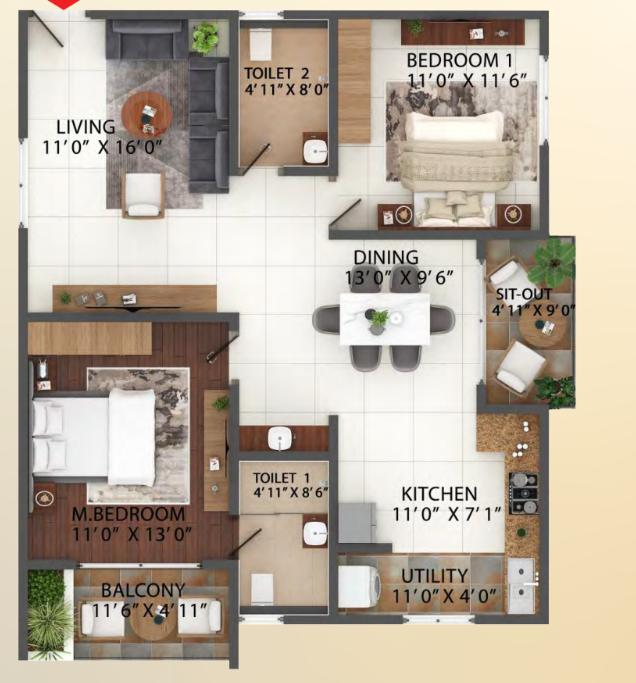Balcony: (26, 569, 235, 664), (476, 233, 576, 409)
Bed: (22, 395, 164, 486), (409, 116, 504, 229)
Bedroom: (25, 313, 232, 558), (333, 15, 543, 232)
Dining Room: (220, 176, 485, 411)
Dining table: (305, 267, 455, 374)
Kitchen: (333, 413, 547, 555)
Living Room: (22, 25, 238, 310)
Sofa: (186, 122, 234, 196), (105, 26, 186, 63), (190, 65, 230, 122), (123, 171, 162, 220)
Wardrobe: (26, 321, 155, 357), (335, 22, 372, 141)
commode: (248, 29, 273, 62), (252, 574, 276, 604)
door: (26, 13, 88, 55), (317, 180, 365, 227), (229, 506, 263, 565), (207, 339, 247, 380), (245, 142, 286, 177)
fridge: (338, 503, 378, 543)
kitchen-slab: (507, 413, 542, 550), (479, 413, 540, 451)
sink: (506, 555, 538, 614), (267, 425, 295, 453), (303, 137, 328, 164), (305, 521, 328, 546)
stove: (506, 469, 539, 518)
toilet: (240, 23, 331, 169), (239, 465, 332, 607)
tv: (57, 285, 207, 312), (203, 387, 234, 505), (404, 15, 524, 44)
utility: (339, 550, 550, 624)
wash: (239, 373, 335, 456)
washing-machine: (338, 565, 381, 608)
